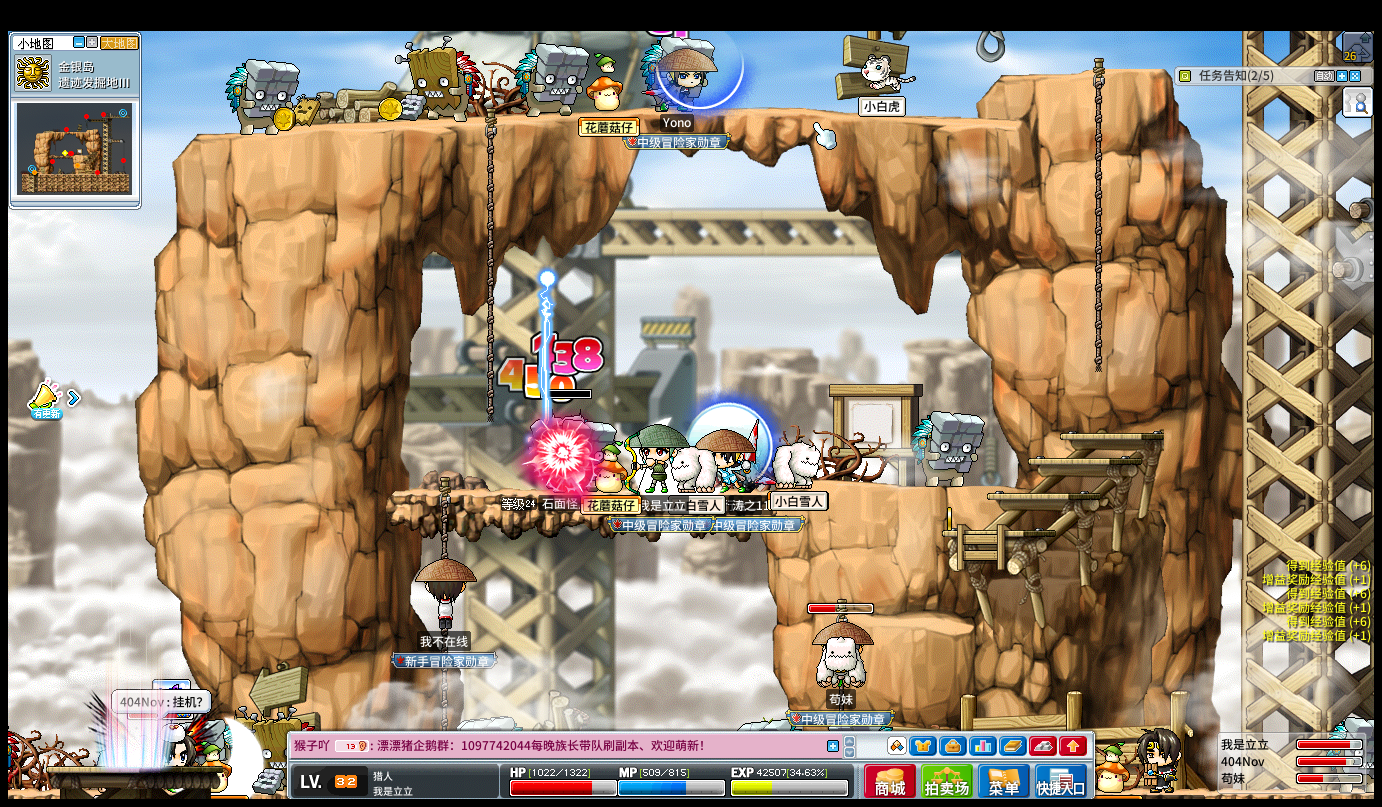floor: (186, 103, 1042, 139), (388, 488, 695, 499), (389, 491, 649, 501), (869, 612, 973, 635), (995, 65, 1171, 78), (863, 483, 1020, 494), (1061, 429, 1164, 442), (943, 528, 1053, 537), (1022, 456, 1138, 464), (987, 492, 1099, 500)
monster: (398, 36, 479, 121), (515, 40, 593, 118), (225, 57, 300, 135), (910, 410, 983, 487)
rope: (1089, 56, 1105, 382), (484, 104, 496, 417), (1091, 55, 1104, 308), (486, 105, 497, 277), (1090, 257, 1102, 370), (434, 478, 449, 560)
